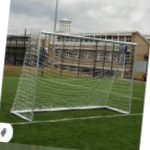goals: (12, 30, 138, 122)
